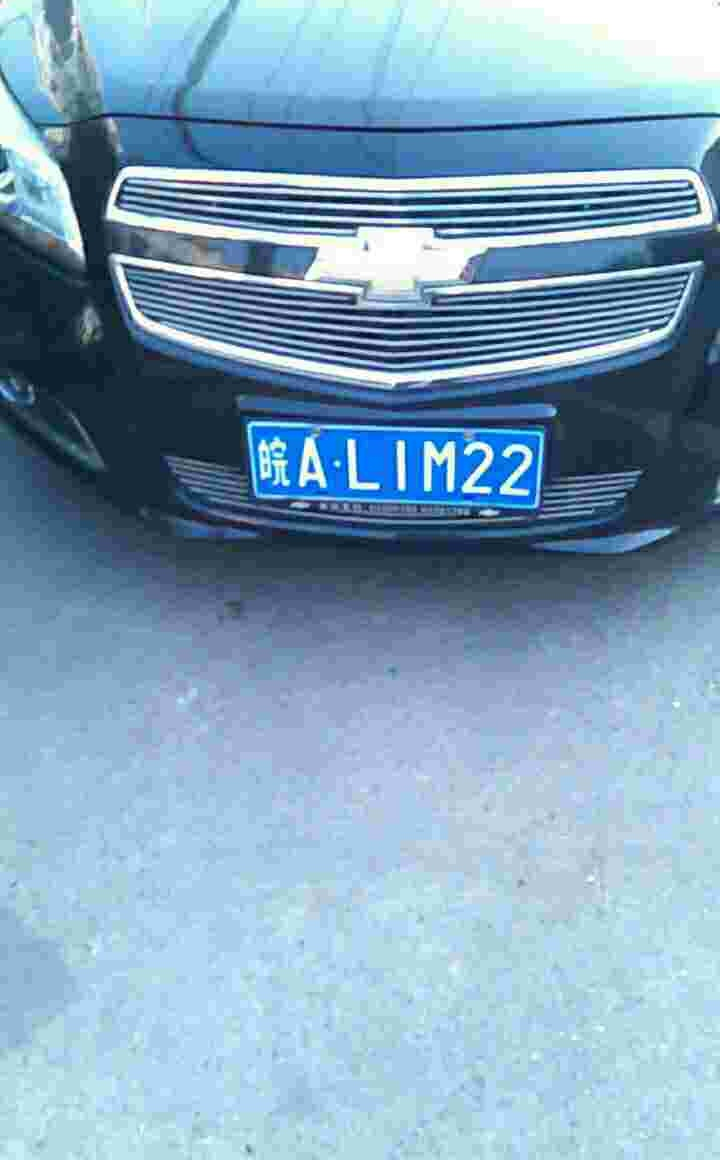license_plate: (251, 424, 540, 510)
